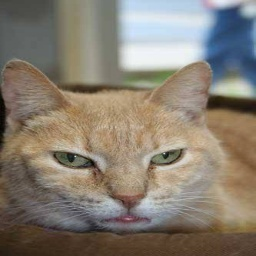cat: (6, 55, 246, 231)
